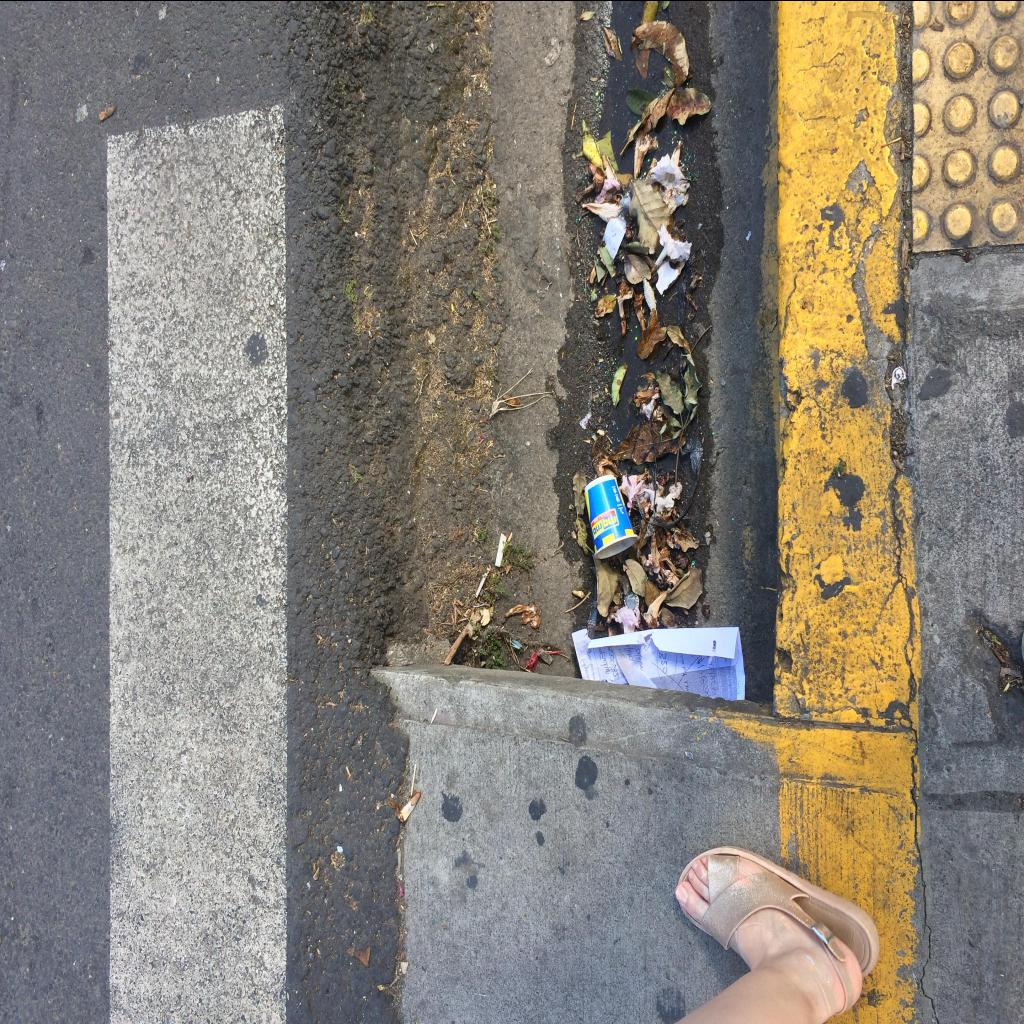Metal bottle cap: (624, 591, 639, 609)
Normal paper: (572, 626, 746, 700)
Paper cup: (584, 474, 638, 558)
Styrofoam piece: (643, 277, 656, 309)
Unlabeled litter: (602, 215, 626, 259)
